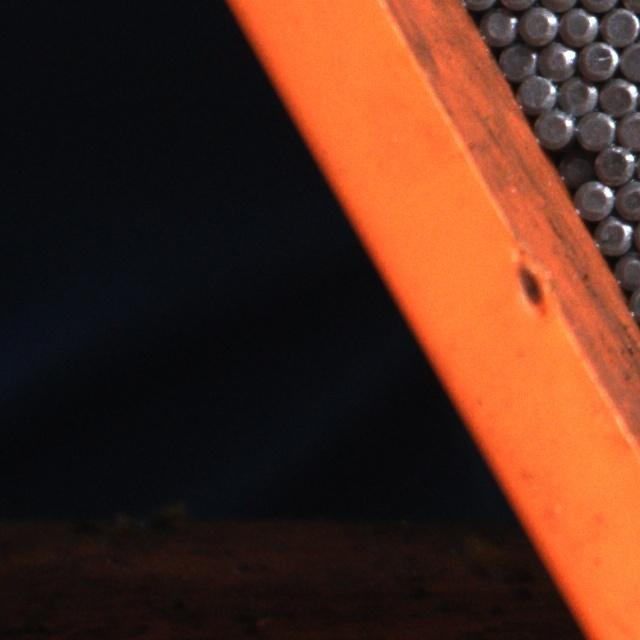tool: (593, 143, 634, 184), (557, 73, 597, 114), (596, 74, 636, 115), (558, 4, 598, 44), (534, 106, 574, 146), (575, 108, 615, 148), (578, 38, 617, 78), (600, 5, 640, 44), (518, 4, 557, 44), (478, 4, 517, 44), (592, 214, 631, 254), (574, 178, 613, 218), (516, 71, 556, 110), (536, 39, 575, 78), (498, 40, 536, 80), (554, 146, 592, 184), (614, 178, 640, 220), (613, 248, 640, 286), (617, 108, 640, 148), (618, 40, 640, 80)
